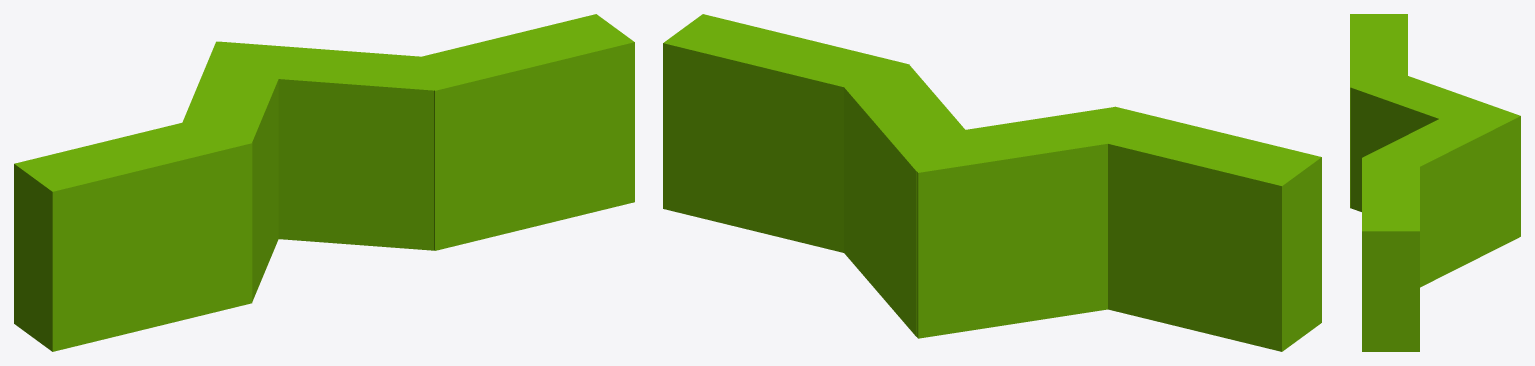
Rendered from dedo_martillo.gltf.
3 renders of one model, left to right at view 1: azimuth 30°, elevation 25°; view 2: azimuth 150°, elevation 25°; view 3: azimuth 270°, elevation 25°, orthographic. The views are drawn at different scales.
Visible parts, largest first — view 1: Cubo, Cubo.001, Cubo.003, Cubo.002; view 2: Cubo, Cubo.002, Cubo.001, Cubo.003; view 3: Cubo.003, Cubo.001, Cubo.002, Cubo.
Part boxes in pixels (<box>): Cubo: <box>14,115,252,351</box>; Cubo.001: <box>402,14,634,250</box>; Cubo.003: <box>207,41,446,250</box>; Cubo.002: <box>176,41,291,301</box>; Cubo: <box>1075,106,1321,351</box>; Cubo.002: <box>891,107,1131,338</box>; Cubo.001: <box>663,14,909,252</box>; Cubo.003: <box>835,65,965,336</box>; Cubo.003: <box>1363,101,1518,287</box>; Cubo.001: <box>1362,157,1419,351</box>; Cubo.002: <box>1350,68,1520,237</box>; Cubo: <box>1350,14,1407,208</box>.
Bounding box in the file's own units: 1.77 × 0.4594 × 0.5885.
